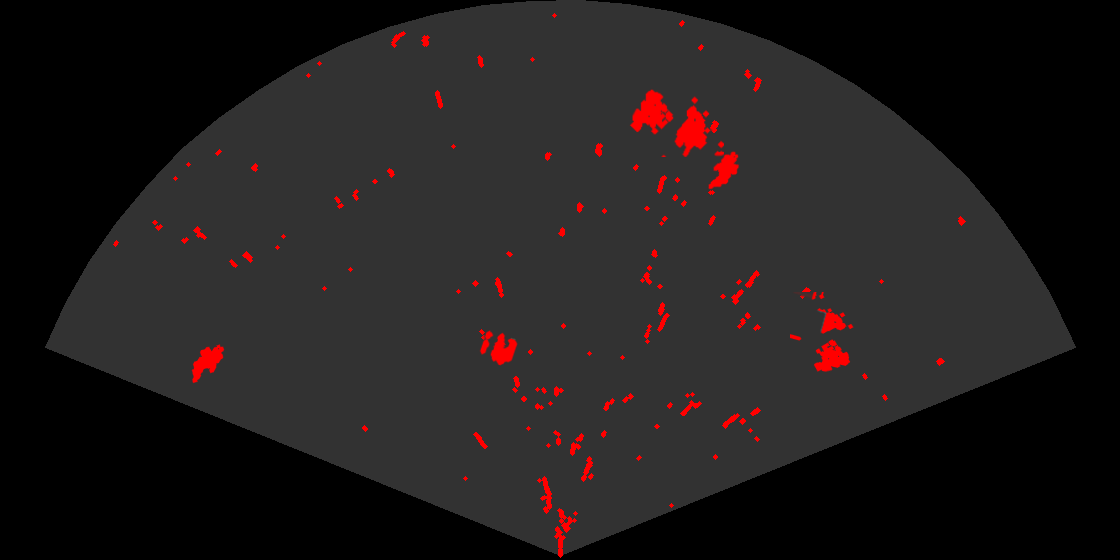AUV: (190, 343, 226, 385), (707, 150, 741, 191)
ball: (478, 329, 519, 367)
cage: (628, 88, 724, 157), (790, 292, 855, 374)
